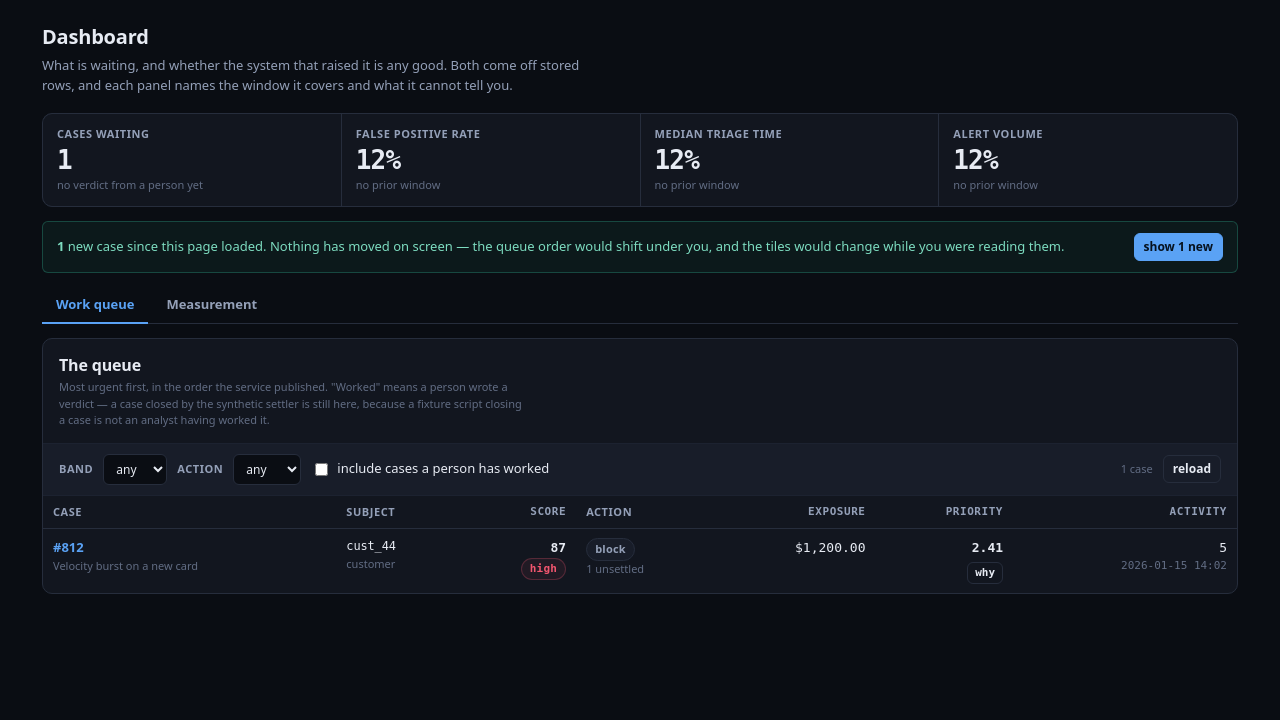
nothing moves under the pointer, on either panel › holds a cycle back behind one button and swaps both payloads with it
Expected: the text "#812" is shown, [53,538,84,556]
Expected: the text "#999" is not shown
Click the button "show 1 new": [1178, 247] box [1134,233,1223,261]
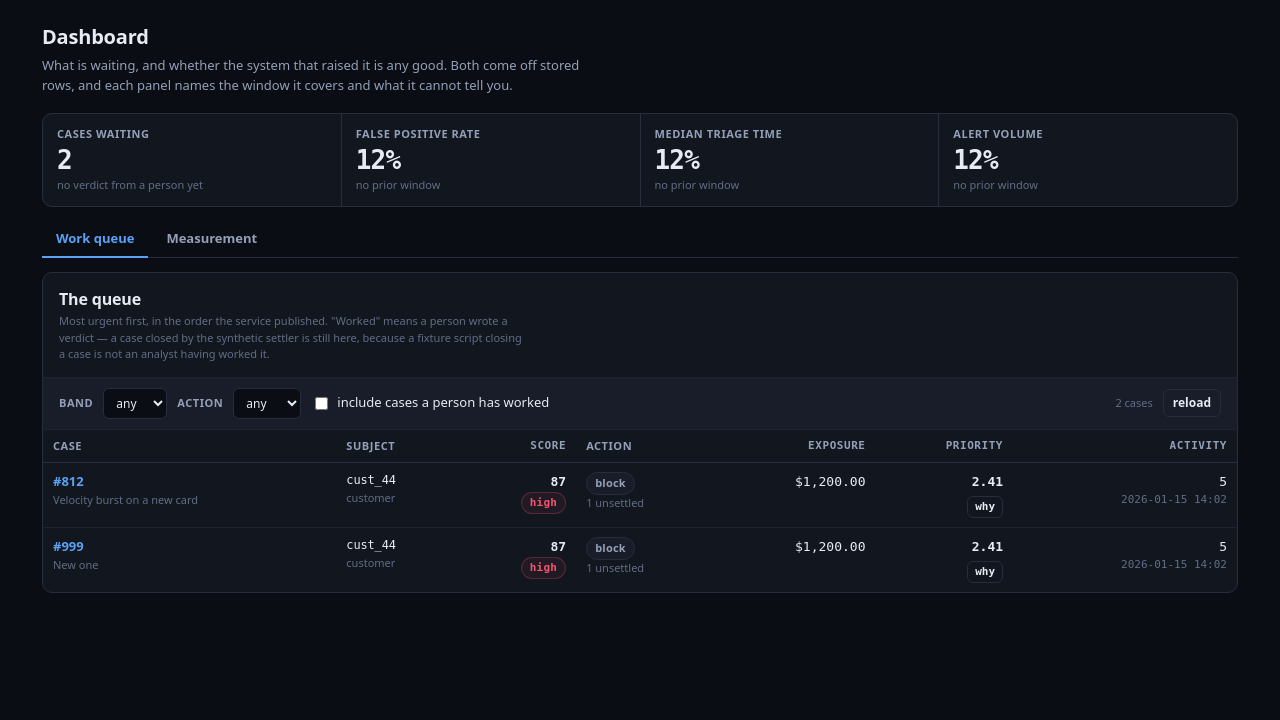
Result: the text "#999" is shown at [53,537,84,555]
Result: the button "show " is gone
